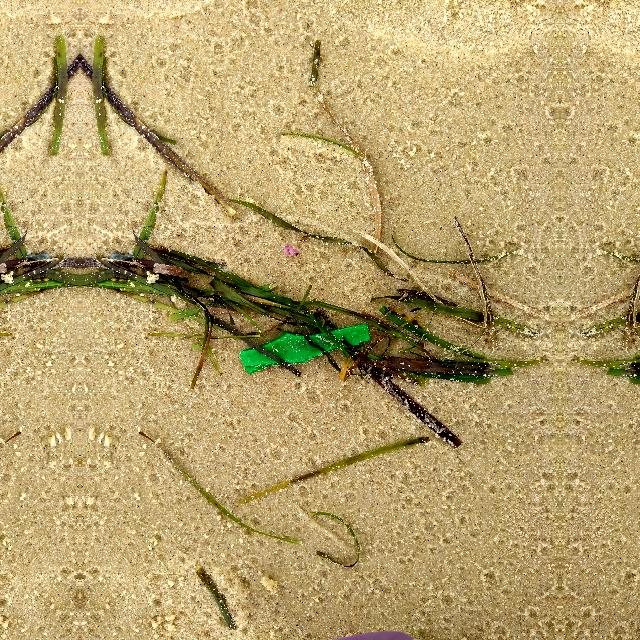Plastic: (226, 313, 380, 383)
